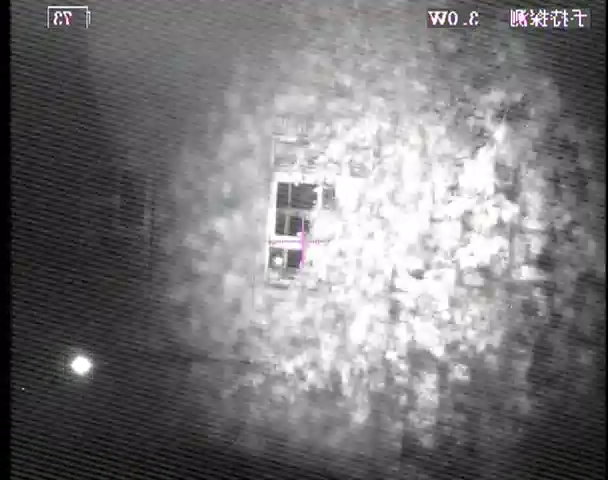my: (273, 255, 284, 268)
